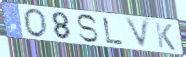8: (51, 11, 73, 41)
K: (154, 21, 177, 52)
L: (102, 17, 126, 46)
O: (23, 8, 49, 39)
S: (76, 13, 100, 44)
V: (123, 16, 152, 51)
